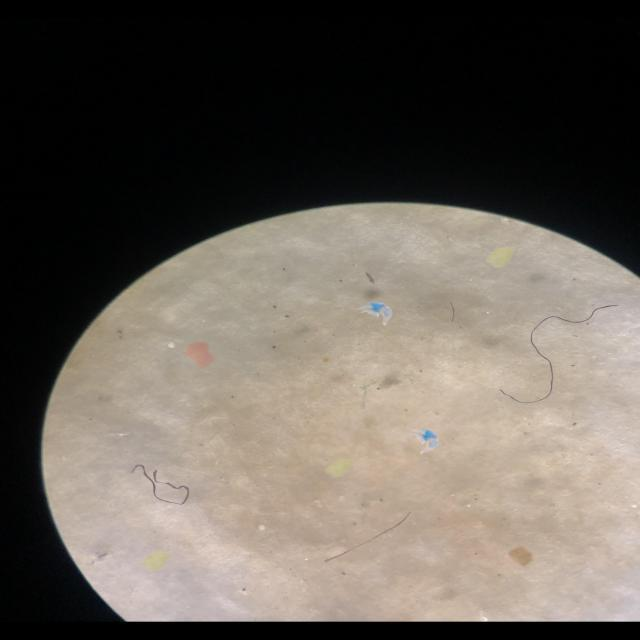fiber: (496, 302, 624, 408), (322, 510, 418, 565), (125, 458, 195, 510)
film: (403, 422, 440, 457), (354, 298, 400, 324)
fragment: (180, 342, 222, 369), (321, 455, 359, 484), (137, 543, 171, 575), (482, 244, 516, 273), (504, 548, 532, 568)
pallet: (253, 521, 273, 538), (160, 341, 180, 351)
